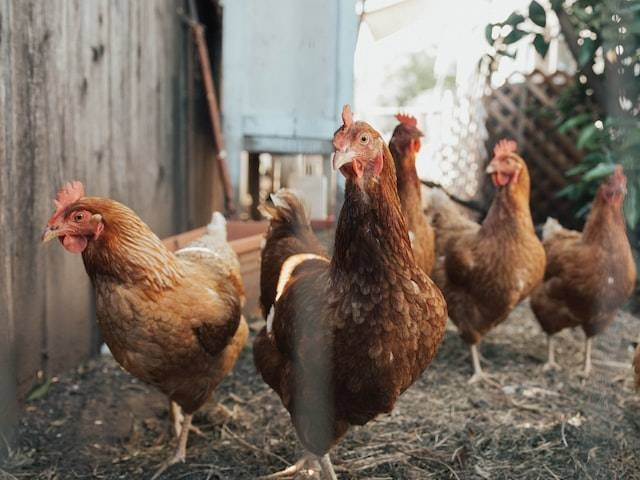ayam: (254, 100, 457, 475), (28, 169, 255, 474), (460, 107, 550, 397), (553, 148, 640, 402)
